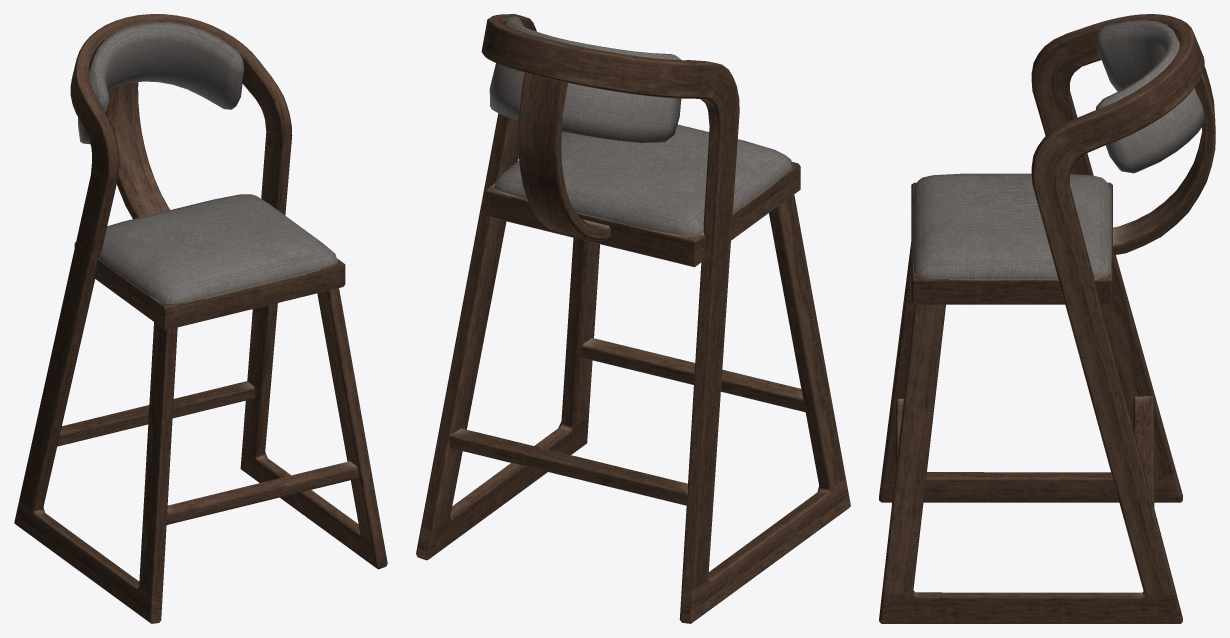
File: SM_Chair_02_A.fbx
The picture shows the model from 3 angles, left to right: view 1: azimuth 30°, elevation 25°; view 2: azimuth 150°, elevation 25°; view 3: azimuth 270°, elevation 25°; orthographic projection. The views are drawn at different scales.
Visible parts, largest first — view 1: SM_Chair_02_A_LOD0; view 2: SM_Chair_02_A_LOD0; view 3: SM_Chair_02_A_LOD0.
Part boxes in pixels (<box>): SM_Chair_02_A_LOD0: <box>14,14,387,623</box>; SM_Chair_02_A_LOD0: <box>416,14,850,623</box>; SM_Chair_02_A_LOD0: <box>879,14,1215,623</box>.
Bounding box in the file's own units: 56.5 × 62.71 × 108.
